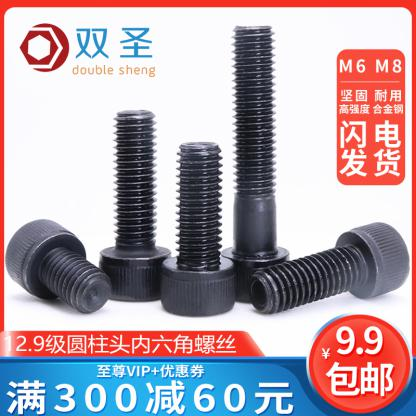FOD: (220, 22, 293, 307), (245, 221, 410, 320), (96, 108, 173, 304), (158, 140, 236, 319), (5, 216, 113, 314)
